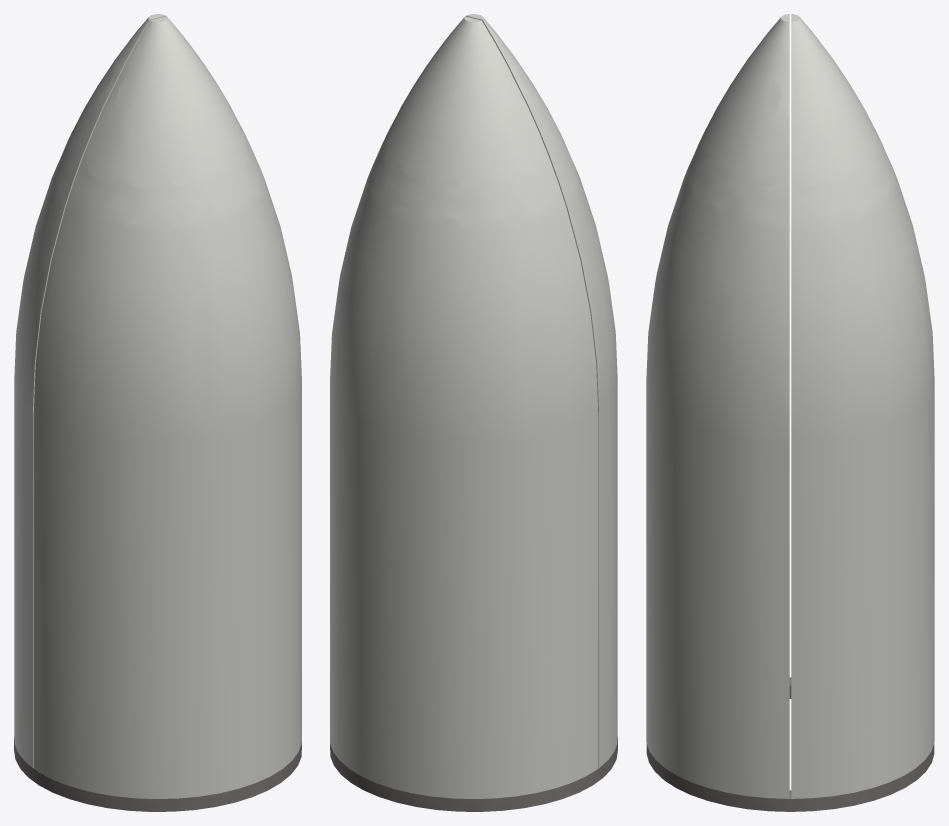
The model's file is stage04_fairing_m.glb.
3 renders of one model, left to right at view 1: azimuth 30°, elevation 25°; view 2: azimuth 150°, elevation 25°; view 3: azimuth 270°, elevation 25°, orthographic.
Parts seen in each view (by area): view 1: half_b, half_a, base_ring; view 2: half_a, half_b, base_ring; view 3: half_a, half_b, base_ring.
Part boxes in pixels (box(x1,y1,x2,y2)): half_b: box(33, 16, 301, 798); half_a: box(14, 14, 166, 767); base_ring: box(14, 737, 301, 811); half_a: box(330, 16, 598, 798); half_b: box(465, 14, 617, 767); base_ring: box(330, 737, 617, 811); half_a: box(791, 14, 934, 798); half_b: box(646, 14, 789, 798); base_ring: box(646, 677, 934, 811).
Bounding box in the file's own units: 2.5 × 7.02 × 2.5.
2 materials, 1 textured.
